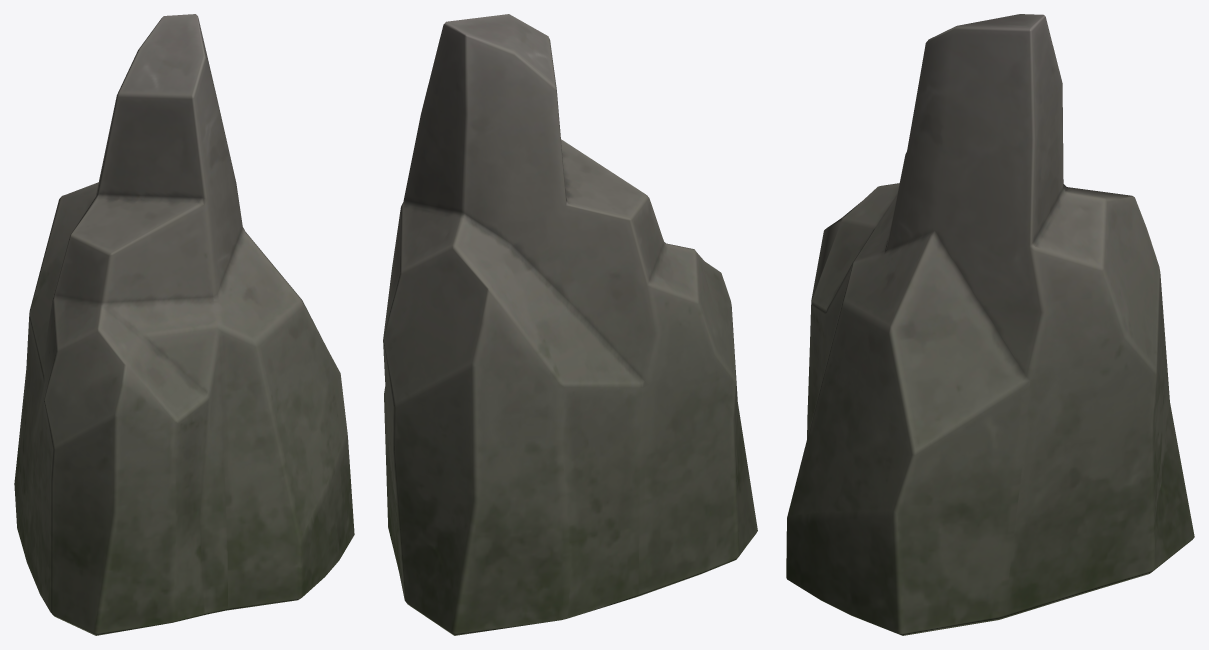
Rendered from AP2_Rock5.glb.
3 views of the same model, side by side, from view 1: azimuth 30°, elevation 25°; view 2: azimuth 150°, elevation 25°; view 3: azimuth 270°, elevation 25° (orthographic). The views are drawn at different scales.
Visible parts, largest first — view 1: Rock5_LOD0; view 2: Rock5_LOD0; view 3: Rock5_LOD0.
Boxes of the visible parts, <box> form: Rock5_LOD0: <box>14,14,354,635</box>; Rock5_LOD0: <box>383,14,757,635</box>; Rock5_LOD0: <box>786,14,1194,635</box>.
Bounding box in the file's own units: 3.39 × 5.29 × 3.52.
Materials: 1 (1 with a texture image).
